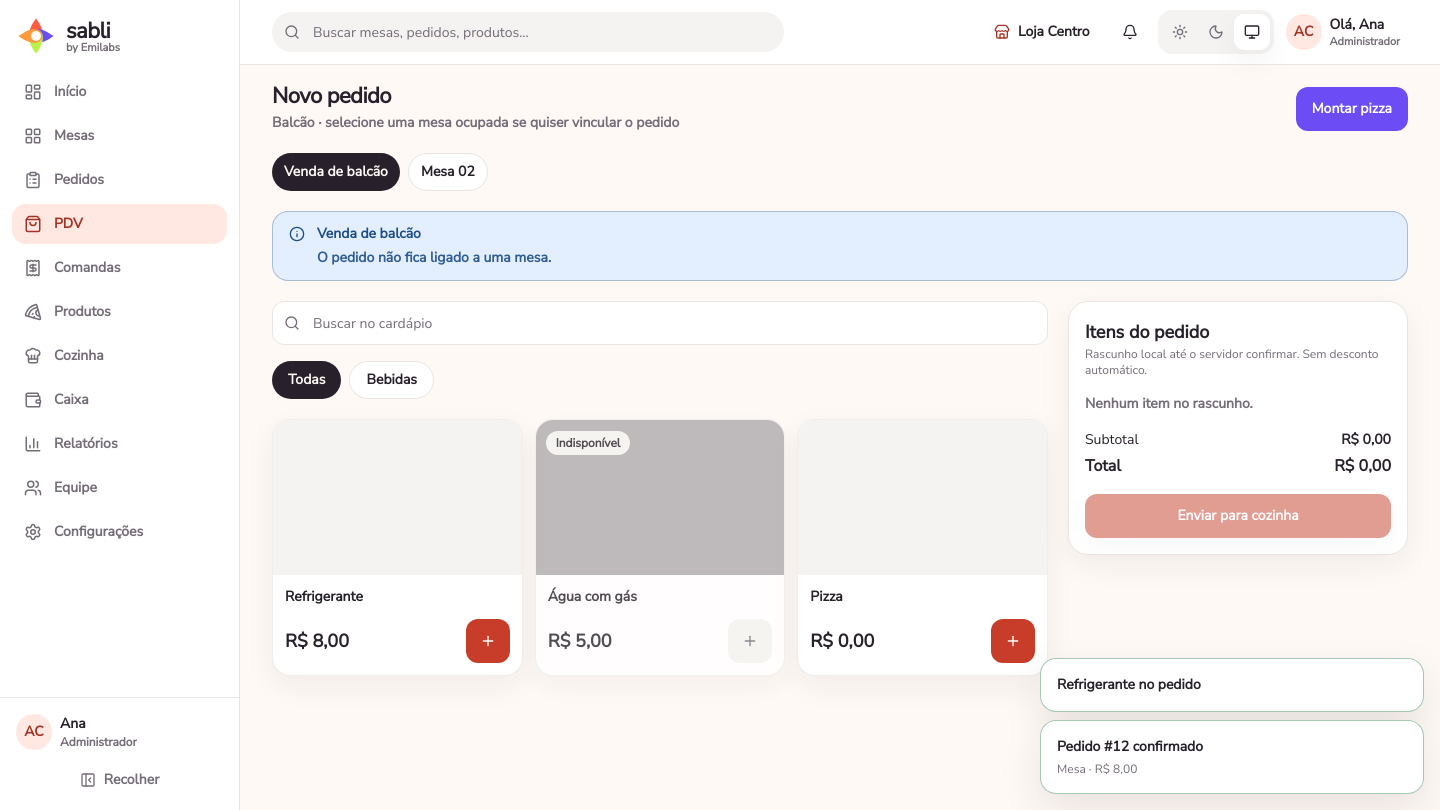
it: pedidos e KDS API › confirma pedido de balcão
This screenshot has width=1440, height=810.
Click the button named "Adicionar Refrigerante": (488, 641) [466,619,510,663]
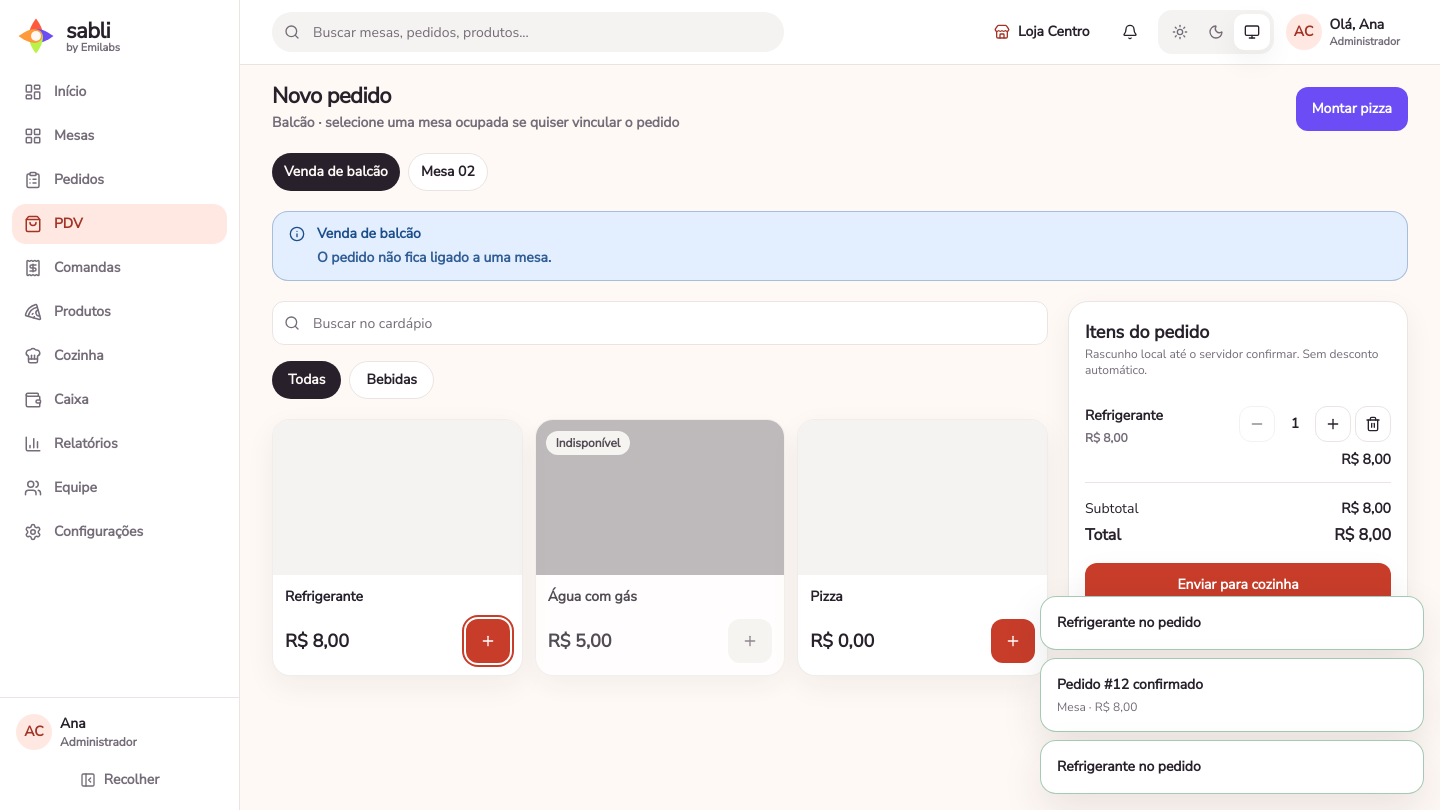
Click the button "Venda de balcão": (336, 172) [272,153,400,191]
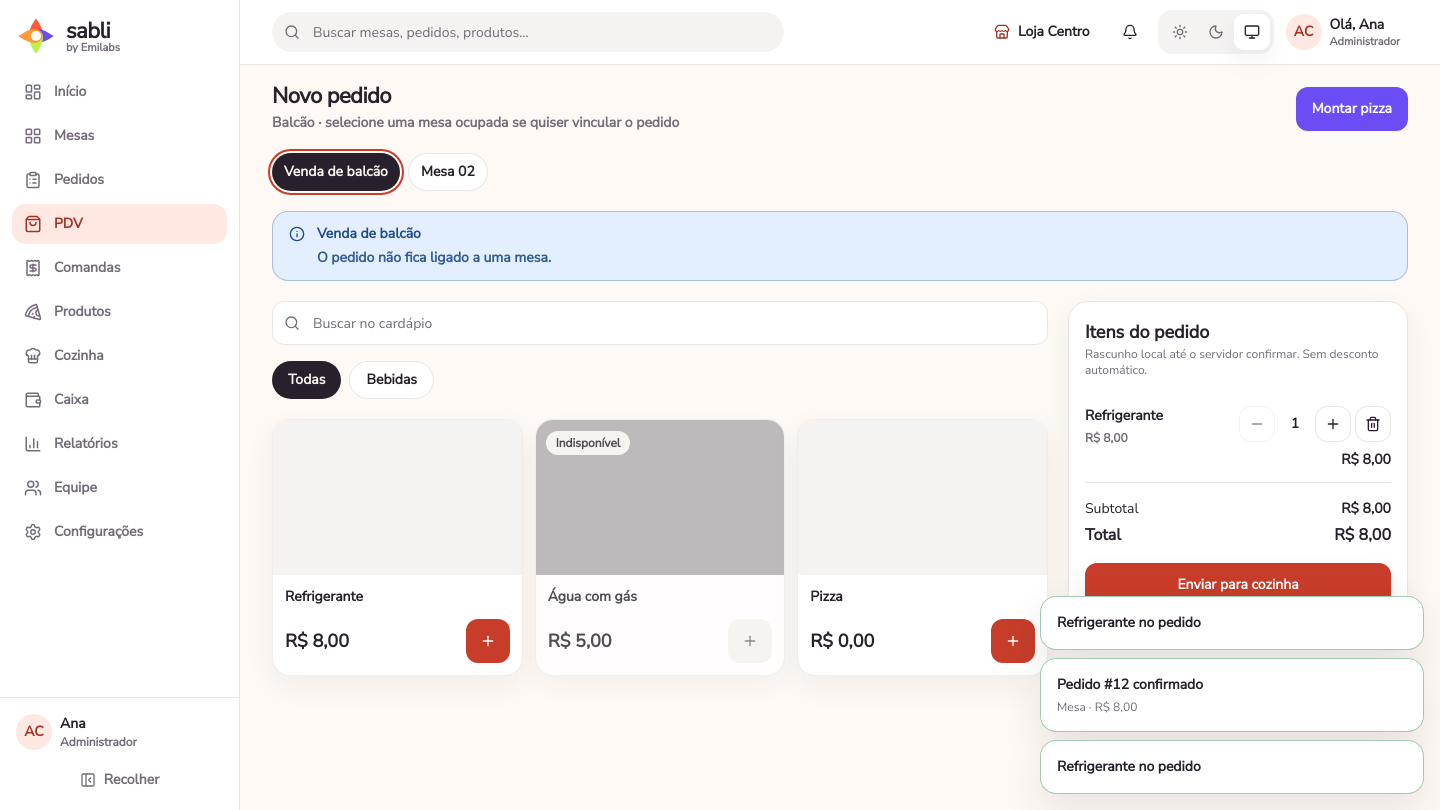
Click the button "Enviar para cozinha": (1238, 585) [1085,563,1391,607]
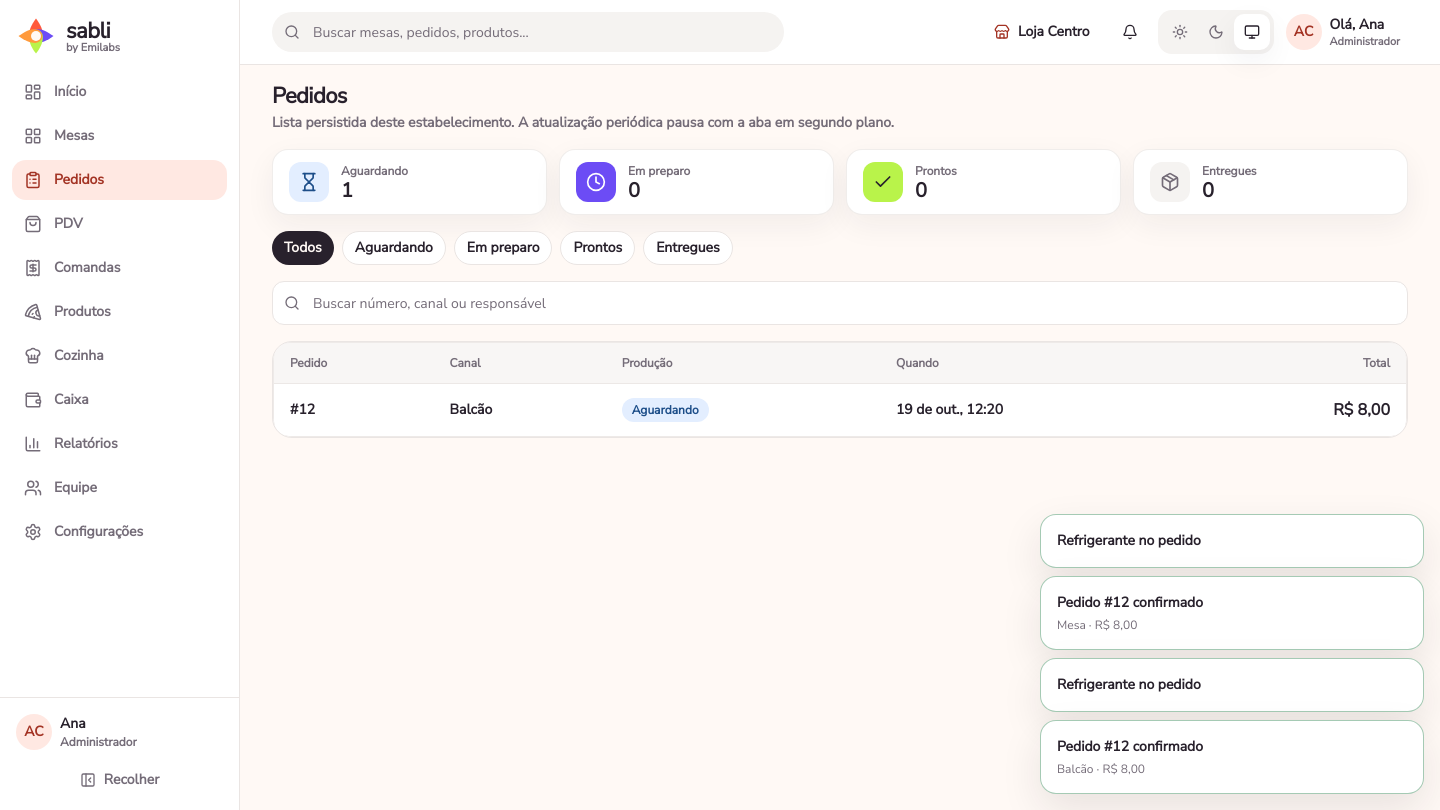
expect the heading "Pedidos" is shown: met, box [272,81,347,111]
expect the text "#12" is shown: met, box [290,400,315,419]
